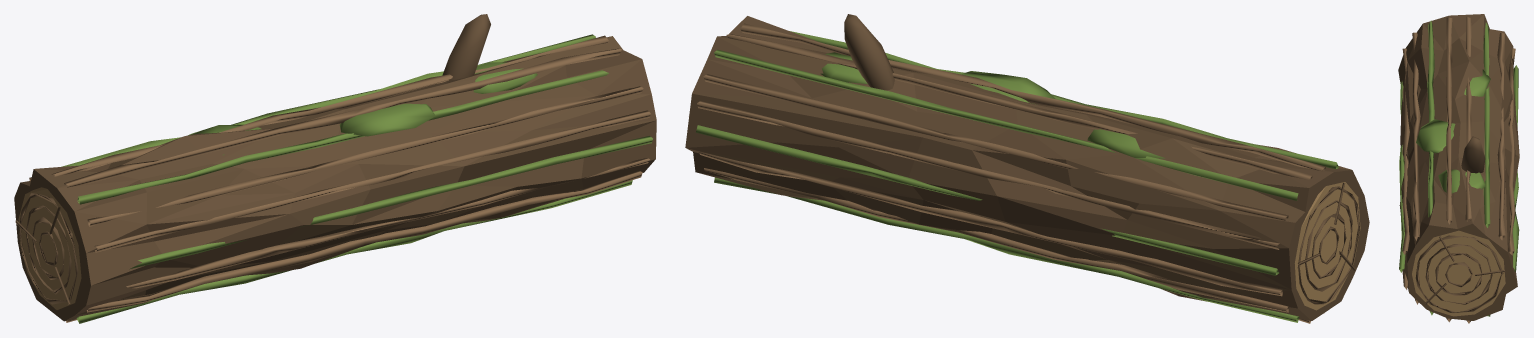
File: log-vlow.glb
3 views of the same model, side by side, from view 1: azimuth 30°, elevation 25°; view 2: azimuth 150°, elevation 25°; view 3: azimuth 270°, elevation 25° (orthographic). The views are drawn at different scales.
Visible parts, largest first — view 1: LOG; view 2: LOG; view 3: LOG.
Boxes of the visible parts, x1,y1,x2,y2 form: LOG: [14, 14, 656, 323]; LOG: [685, 14, 1369, 323]; LOG: [1398, 14, 1519, 323].
Size of the model in its own units: 3.15 by 0.9901 by 0.7604.
